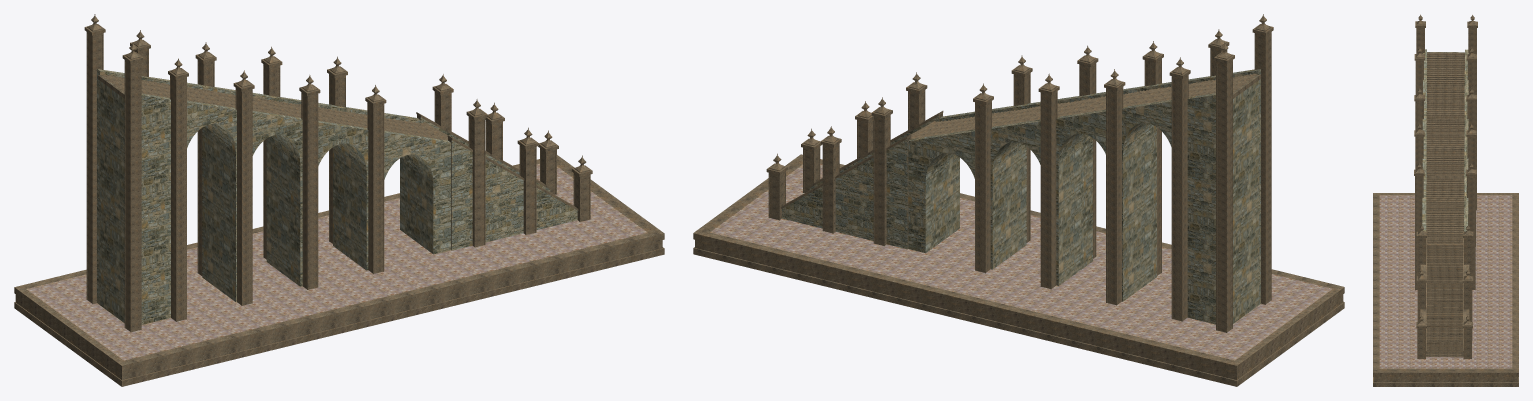
Rendered from fbxStairs.fbx.
3 renders of one model, left to right at view 1: azimuth 30°, elevation 25°; view 2: azimuth 150°, elevation 25°; view 3: azimuth 270°, elevation 25°, orthographic. The views are drawn at different scales.
Visible parts, largest first — view 1: stairs, FLOOR; view 2: stairs, FLOOR; view 3: stairs, FLOOR.
Boxes of the visible parts, x1,y1,x2,y2 form: stairs: (84,14,592,332); FLOOR: (14,155,664,386); stairs: (766,14,1273,332); FLOOR: (693,154,1344,386); stairs: (1414,14,1477,359); FLOOR: (1373,193,1518,386).
Size of the model in its own units: 30.53 by 16.54 by 10.48.
Materials: 3 (3 with a texture image).
